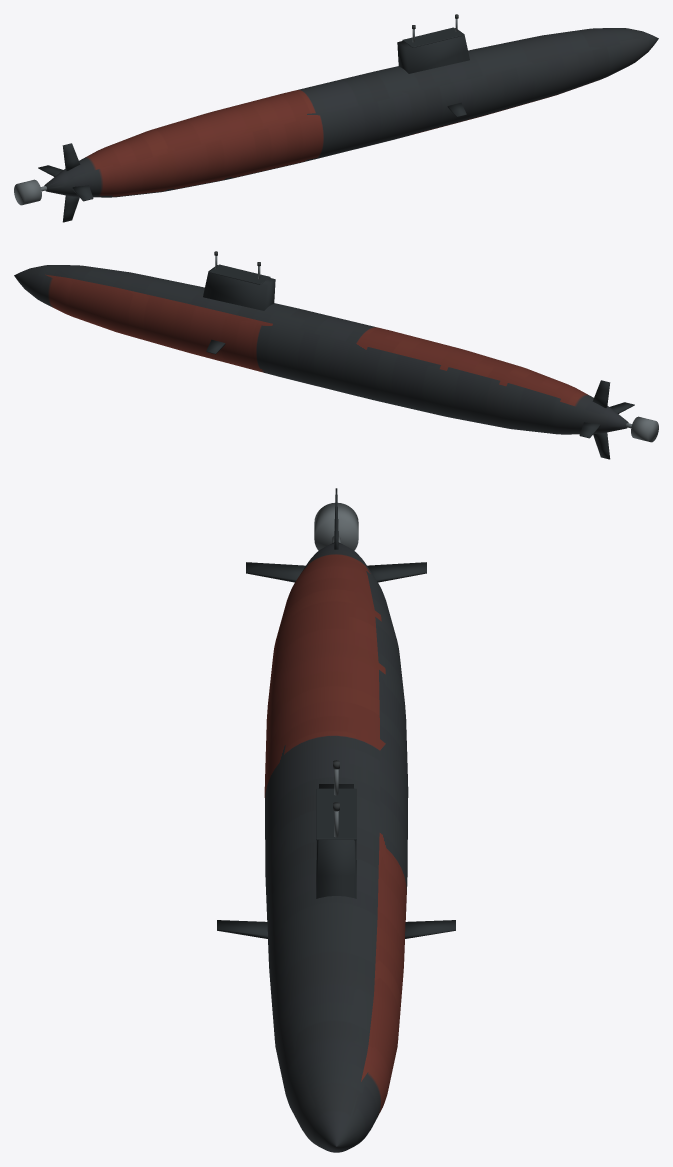
The model's file is CN_SSN_Type093_LOD1.fbx.
The picture shows the model from 3 angles, top to bottom: view 1: azimuth 30°, elevation 25°; view 2: azimuth 150°, elevation 25°; view 3: azimuth 270°, elevation 25°; orthographic projection. The views are drawn at different scales.
Parts seen in each view (by area): view 1: CN_SSN_Type093_LOD1; view 2: CN_SSN_Type093_LOD1; view 3: CN_SSN_Type093_LOD1.
Part boxes in pixels (x1,y1,x2,y2): CN_SSN_Type093_LOD1: [14, 14, 658, 222]; CN_SSN_Type093_LOD1: [14, 251, 658, 459]; CN_SSN_Type093_LOD1: [217, 488, 455, 1152].
Bounding box in the file's own units: 113 × 18.32 × 18.81.
Materials: 6 (1 with a texture image).
